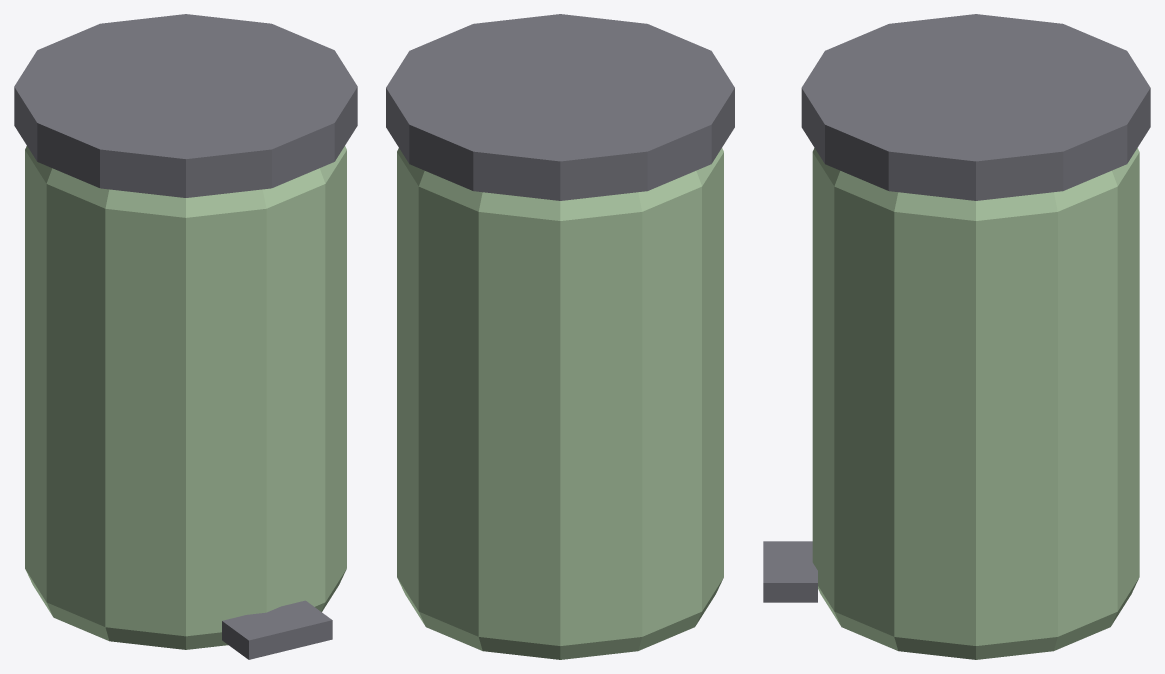
File: cozy-home-interiors-kitchen-bin-b87e012b.glb
The picture shows the model from 3 angles, left to right: view 1: azimuth 30°, elevation 25°; view 2: azimuth 150°, elevation 25°; view 3: azimuth 270°, elevation 25°; orthographic projection.
Parts seen in each view (by area): view 1: kitchen-bin; view 2: kitchen-bin; view 3: kitchen-bin.
Boxes of the visible parts, x1,y1,x2,y2 form: kitchen-bin: (14,14,357,659); kitchen-bin: (386,14,734,659); kitchen-bin: (763,14,1150,659).
Bounding box in the file's own units: 0.32 × 0.52 × 0.355.
